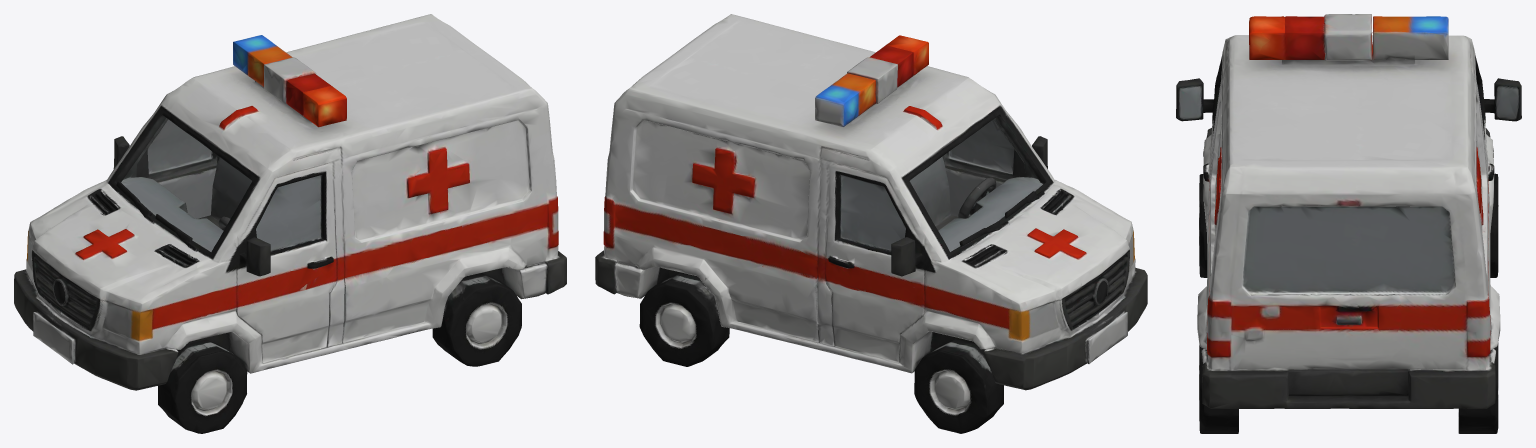
The model's file is ambulance.glb.
3 views of the same model, side by side, from view 1: azimuth 30°, elevation 25°; view 2: azimuth 150°, elevation 25°; view 3: azimuth 270°, elevation 25° (orthographic). The views are drawn at different scales.
Parts seen in each view (by area): view 1: geometry_0; view 2: geometry_0; view 3: geometry_0.
Part boxes in pixels (<box>): geometry_0: <box>14,14,566,433</box>; geometry_0: <box>595,14,1147,433</box>; geometry_0: <box>1176,14,1521,433</box>.
Size of the model in its own units: 5.2 by 3.1 by 2.95.
1 material, 1 textured.
